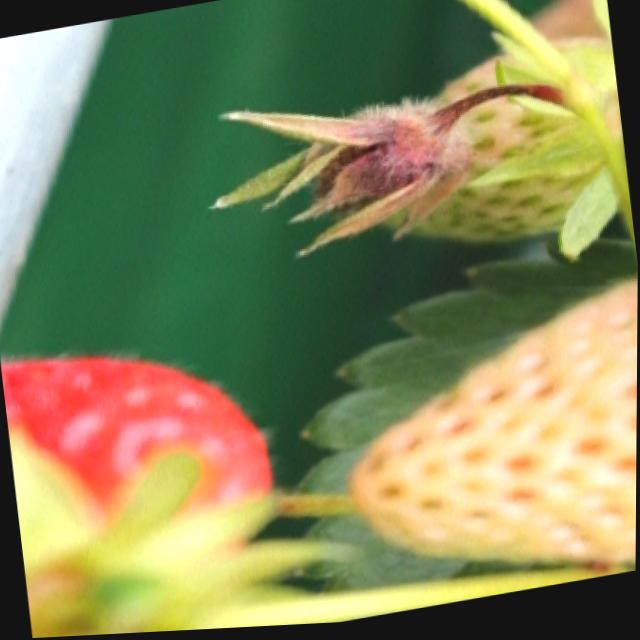Gray Mold: (208, 91, 491, 257)
